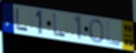1: (34, 10, 43, 36), (74, 15, 82, 42)
L: (52, 13, 67, 38), (15, 7, 29, 33), (107, 21, 121, 47)
O: (89, 18, 105, 44)
